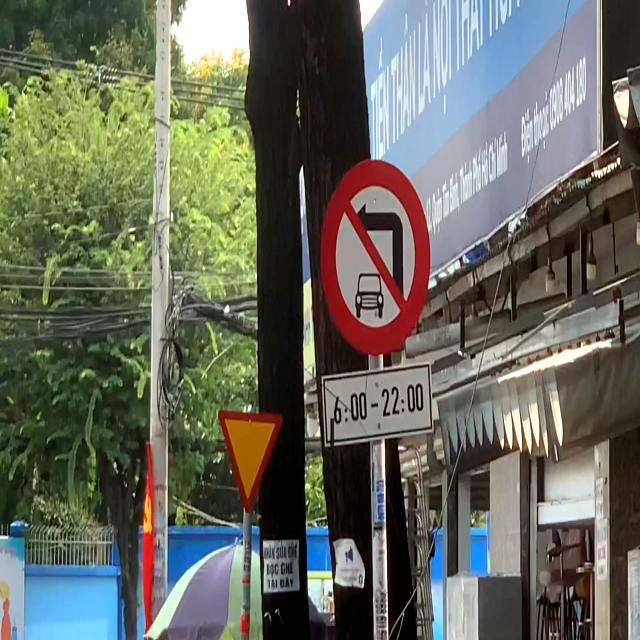P.103c: (320, 156, 430, 357)
W.208: (216, 405, 286, 520)
